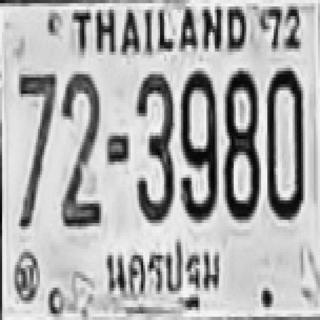N00: (265, 66, 303, 218)
N02: (59, 71, 99, 223), (60, 71, 100, 210)
N03: (135, 71, 173, 220)
N07: (17, 71, 55, 226)
N08: (223, 68, 259, 217)
N09: (179, 68, 215, 220)
P28: (99, 232, 227, 313)
